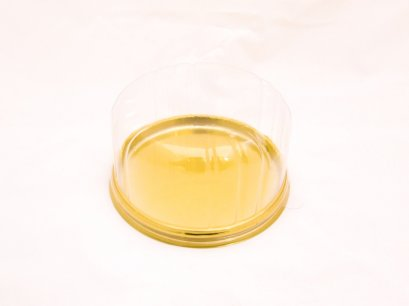PlasticBox: (103, 58, 293, 250)
